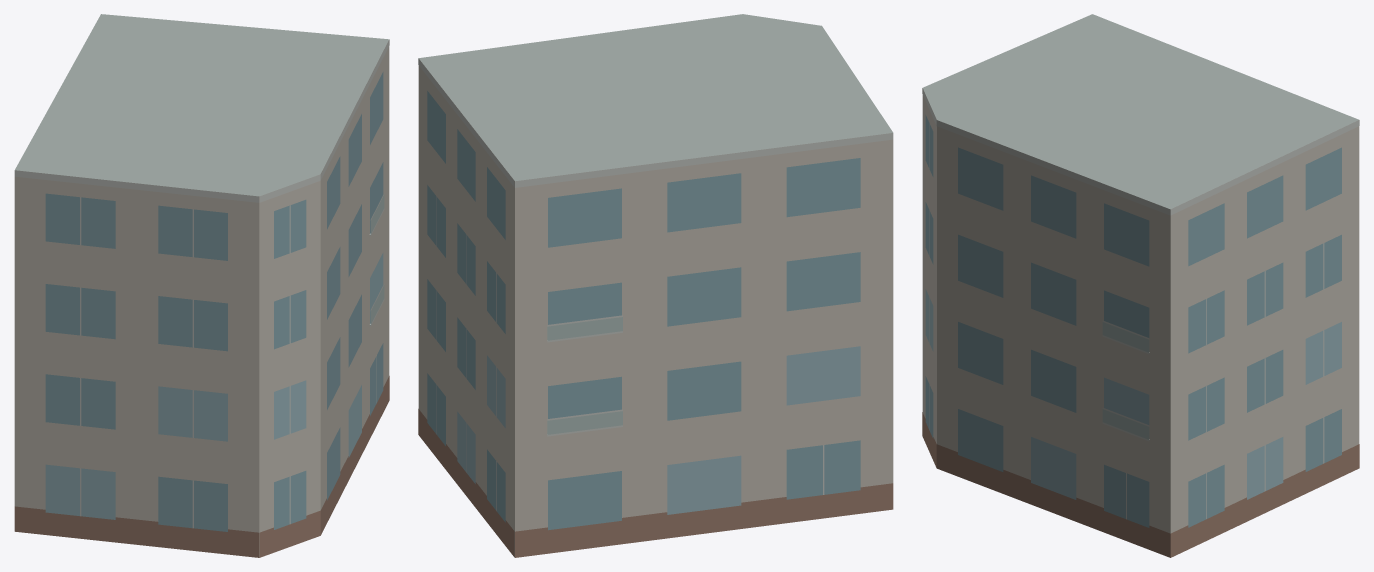
Rendered from survey-upis-32986782.glb.
3 renders of one model, left to right at view 1: azimuth 30°, elevation 25°; view 2: azimuth 150°, elevation 25°; view 3: azimuth 270°, elevation 25°, orthographic. The views are drawn at different scales.
Visible parts, largest first — view 1: survey-upis-32986782.tmp; view 2: survey-upis-32986782.tmp; view 3: survey-upis-32986782.tmp.
Boxes of the visible parts, bbox=[...] form: survey-upis-32986782.tmp: bbox=[14, 14, 389, 557]; survey-upis-32986782.tmp: bbox=[418, 14, 893, 557]; survey-upis-32986782.tmp: bbox=[922, 14, 1359, 557].
Size of the model in its own units: 16.48 by 13.7 by 15.57.
